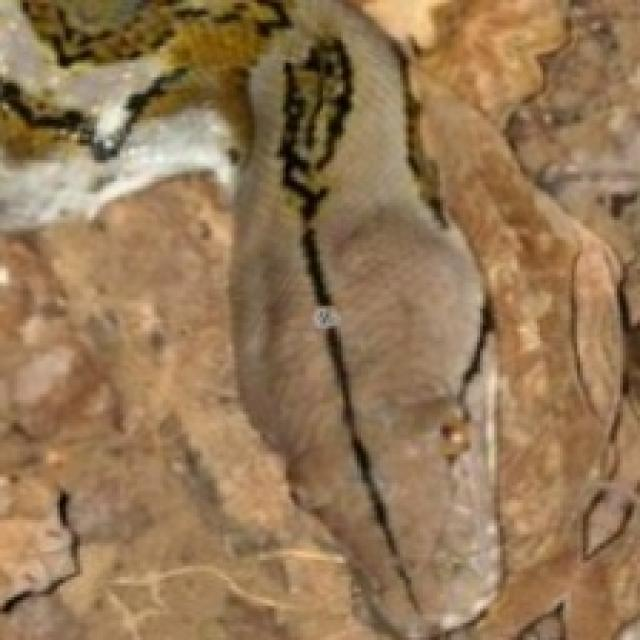reticulated python: (0, 0, 509, 639)
